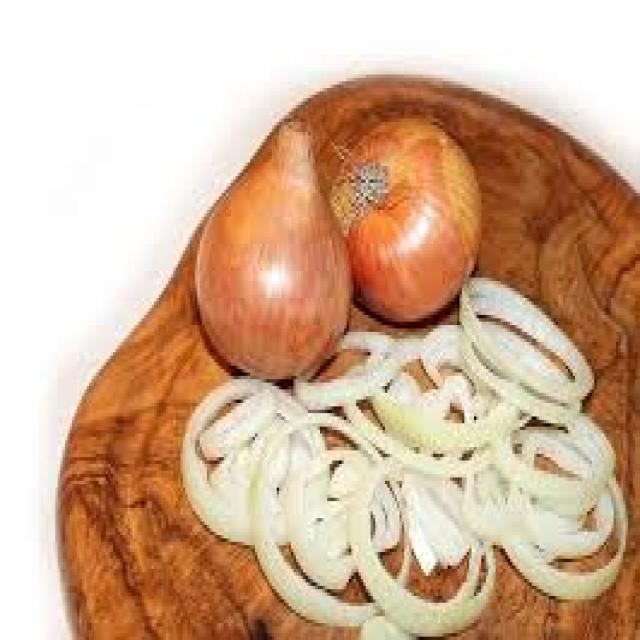organic waste: (197, 122, 349, 376), (248, 406, 409, 623), (327, 112, 479, 318), (346, 443, 494, 630), (176, 369, 324, 539), (462, 454, 623, 596), (344, 329, 496, 474), (452, 271, 592, 399), (481, 393, 614, 508), (452, 318, 573, 416), (428, 332, 527, 433), (291, 325, 390, 396), (354, 610, 414, 636)
